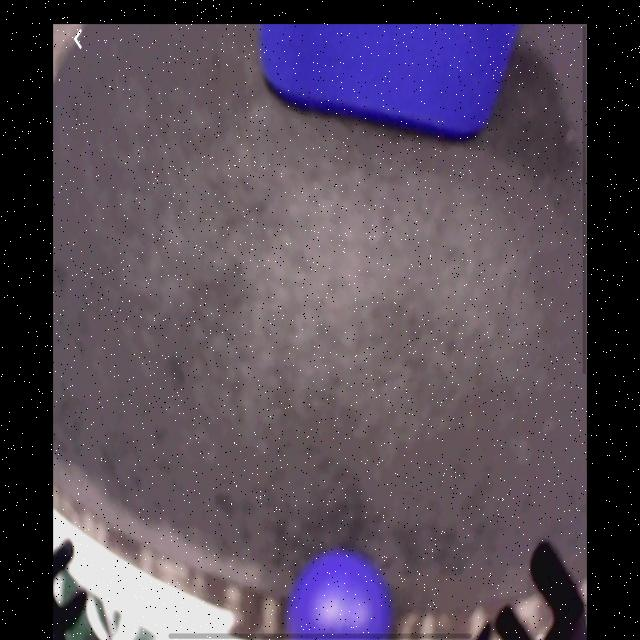ball: (290, 550, 391, 640)
